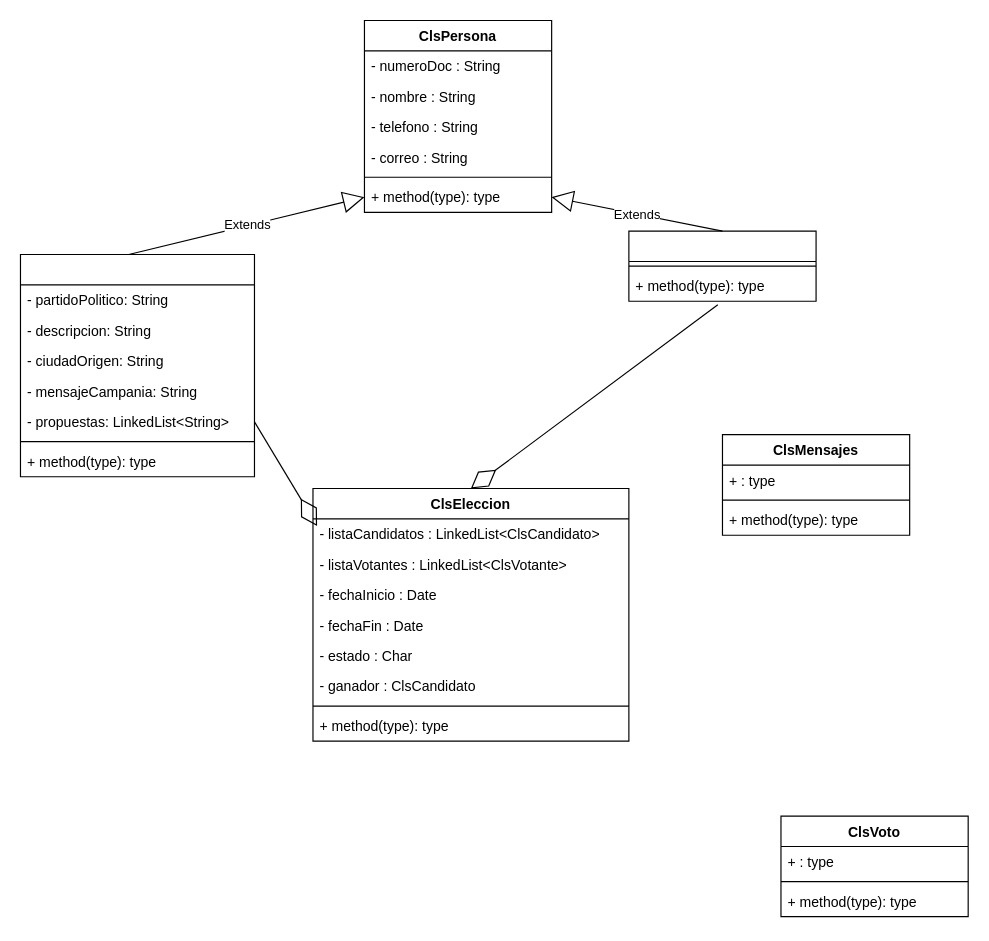
Some shapes in this 989 by 941 pixel diagram are drawn without their labels. The box of each missing label's shape, as (x1, y1, x2, y2) in pixels:
ClsCandidato: (19, 253, 254, 477)
ClsVotante: (628, 230, 816, 301)
